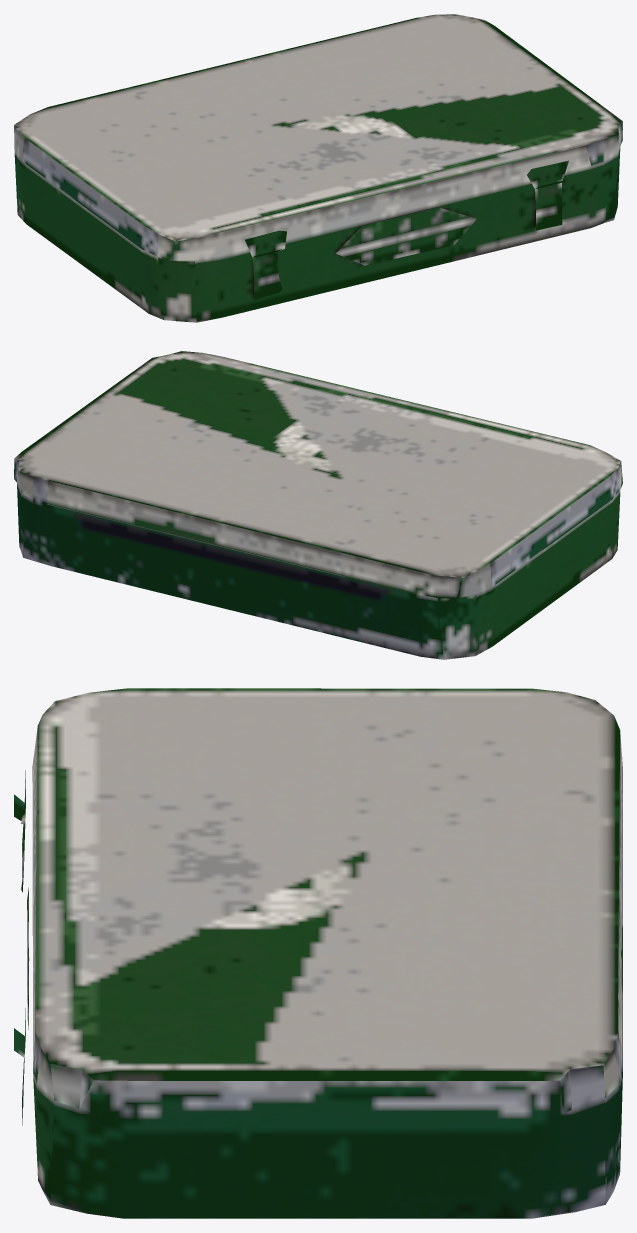
File: medical_box.glb
3 views of the same model, one above another, from view 1: azimuth 30°, elevation 25°; view 2: azimuth 150°, elevation 25°; view 3: azimuth 270°, elevation 25° (orthographic). The views are drawn at different scales.
Visible parts, largest first — view 1: mesh; view 2: mesh; view 3: mesh.
Part boxes in pixels (box(x1,y1,x2,y2)): mesh: box(14, 14, 622, 322); mesh: box(14, 351, 622, 659); mesh: box(14, 688, 622, 1218).
Bounding box in the file's own units: 0.5454 × 0.0975 × 0.3598.
Materials: 1 (1 with a texture image).
